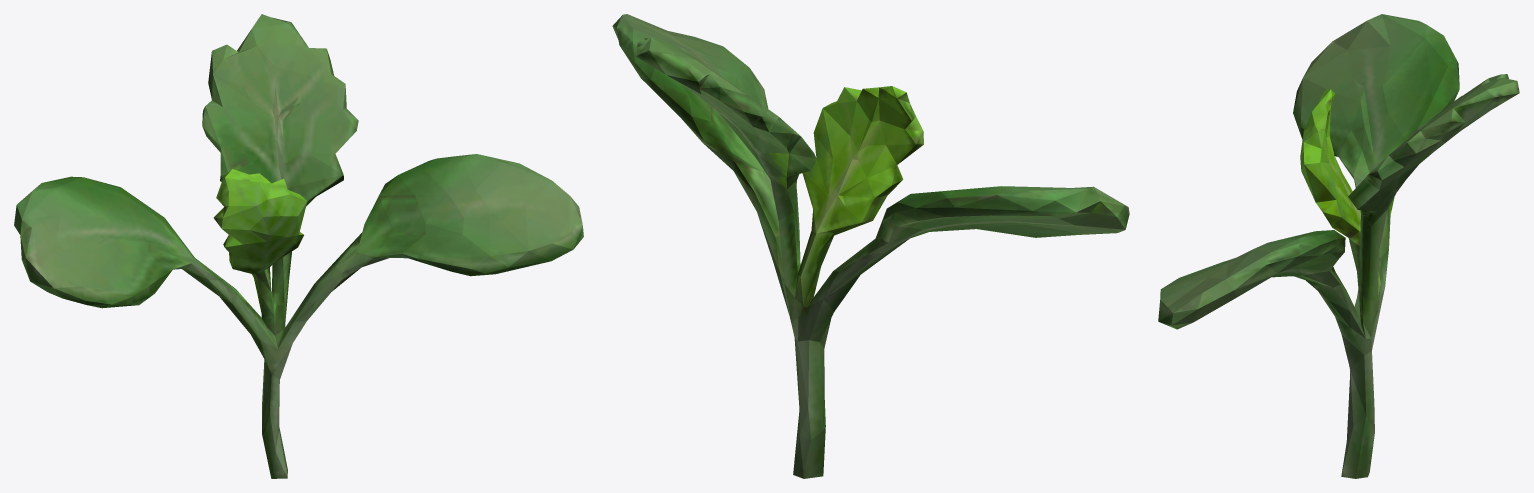
Rendered from P_Huacai_01.obj.
3 views of the same model, side by side, from view 1: azimuth 30°, elevation 25°; view 2: azimuth 150°, elevation 25°; view 3: azimuth 270°, elevation 25° (orthographic). The views are drawn at different scales.
Bounding box in the file's own units: 0.4821 × 0.3723 × 0.2864.
Materials: 1 (1 with a texture image).
